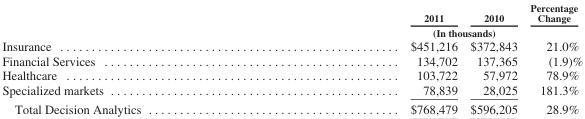table: (1, 1, 582, 116)
table column: (1, 1, 275, 116), (275, 1, 463, 116), (463, 1, 523, 116), (523, 1, 582, 116)
table column header: (1, 1, 582, 38)
table row: (1, 1, 582, 24), (1, 82, 582, 99), (1, 99, 582, 116), (1, 38, 582, 53), (1, 67, 582, 82), (1, 24, 582, 38), (1, 53, 582, 67)
table spanning cell: (275, 24, 523, 38), (523, 1, 582, 38)
